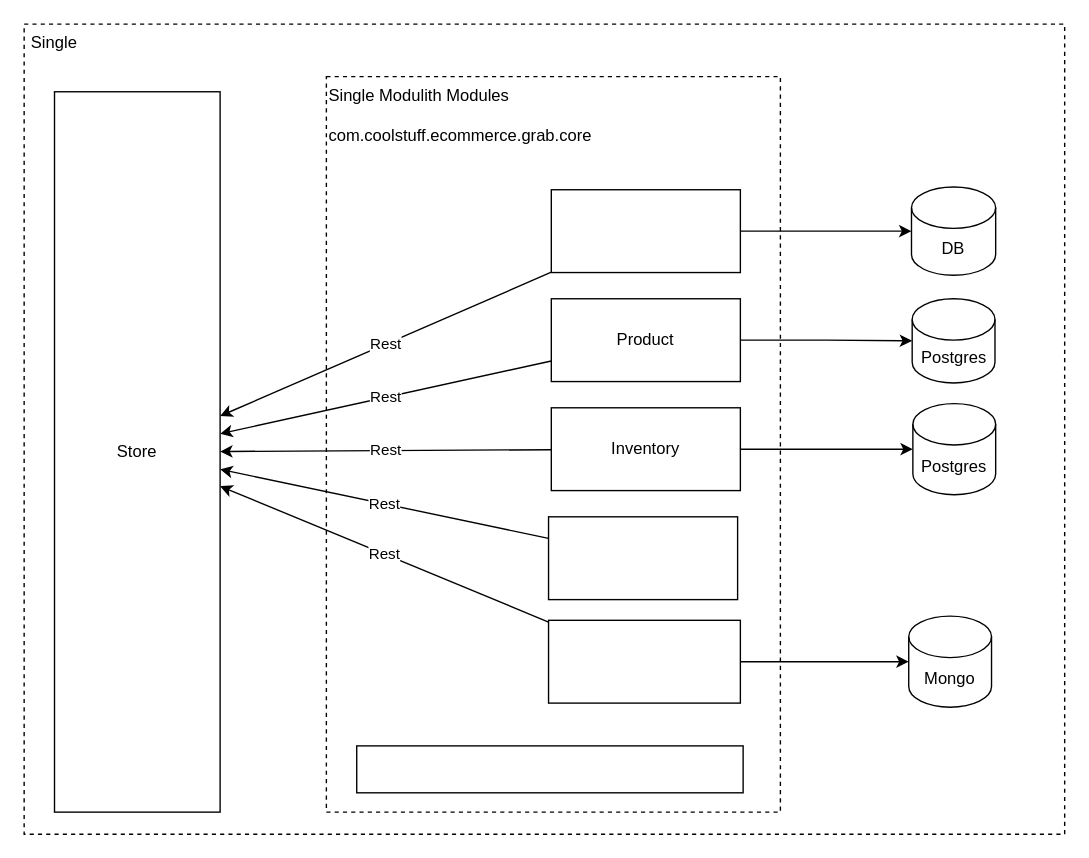
This 1089x858 diagram has some shape labels left out. Here are the shapes that lost their labels. From the top down, the centre of each, then its label:
At pixel 645 230: "IAM Service".
At pixel 642 557: "PricingAndPromotion".
At pixel 643 661: "Order".
At pixel 549 769: "Application Event".
